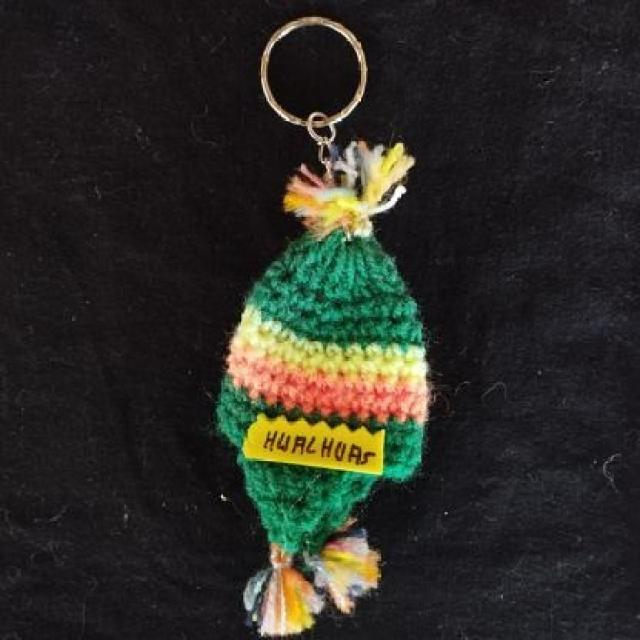Llavero: (213, 135, 433, 639)
